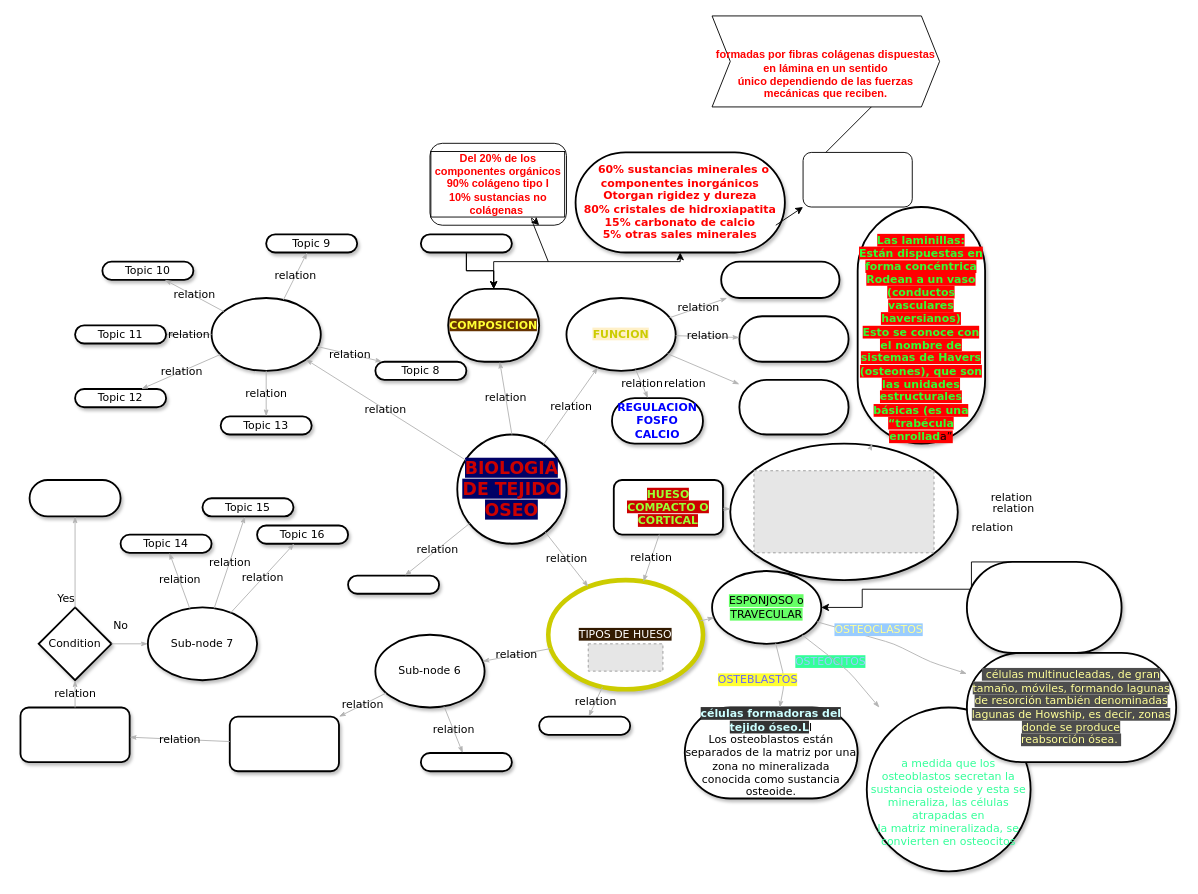
Image size: 1198x894. Some labels were removed from this diagram. Grey dashed boxes stand in for pictures. Each missing label, with the centre of its shape:
"20% AGUA" belongs at point (467, 244).
"ALOJA MEDULA OSEA" belongs at point (794, 408).
"Aspecto de esponja, los espacios que quedan, están ocupados por médula ósea" belongs at point (1044, 608).
"CONSTITUIDO POR TRABECULAS OSEAS" belongs at point (857, 179).
"End" belongs at point (75, 499).
"LOCOMOCION" belongs at point (794, 340).
"Process 2" belongs at point (285, 745).
"Process 3" belongs at point (75, 736).
"PROTECCION DE ORGANOS" belongs at point (780, 281).
"Sub-node 1" belongs at point (267, 335).
"Topic 17" belongs at point (394, 586).
"Topic 18" belongs at point (467, 763).
"Topic 19" belongs at point (585, 727).
